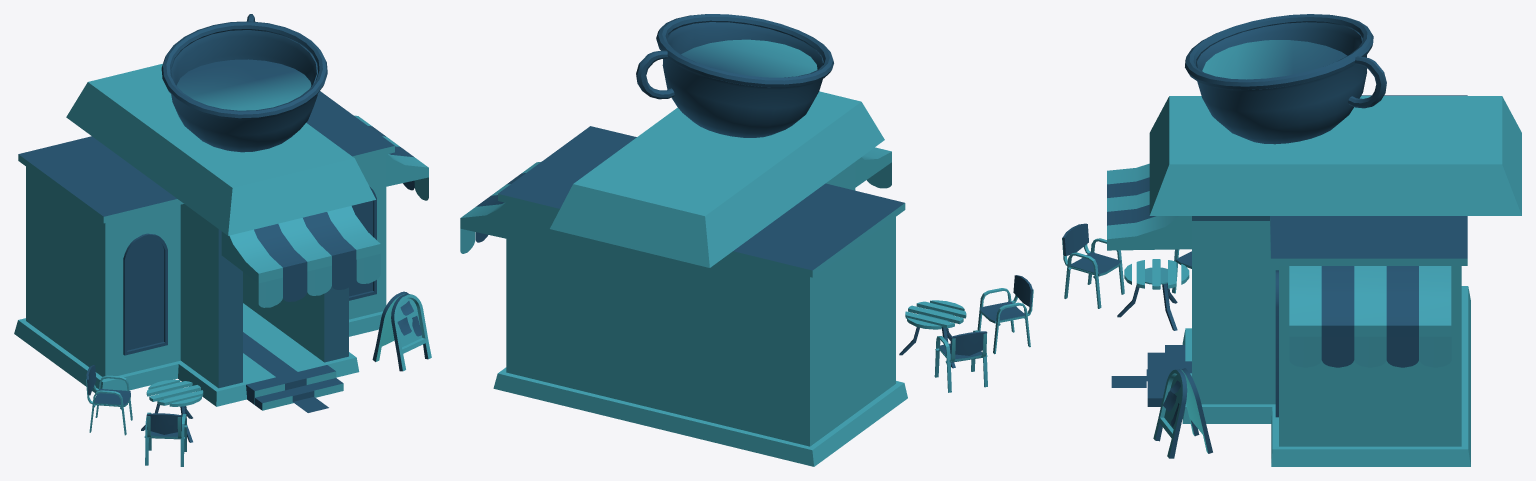
Rendered from Play_Place_LV1.FBX.
3 renders of one model, left to right at view 1: azimuth 30°, elevation 25°; view 2: azimuth 150°, elevation 25°; view 3: azimuth 270°, elevation 25°, orthographic. The views are drawn at different scales.
Visible parts, largest first — view 1: Play_Place; view 2: Play_Place; view 3: Play_Place.
Part boxes in pixels (x1,y1,x2,y2): Play_Place: [14, 14, 431, 466]; Play_Place: [460, 14, 1033, 466]; Play_Place: [1062, 14, 1521, 466].
Size of the model in its own units: 15.91 by 12.27 by 14.51.
